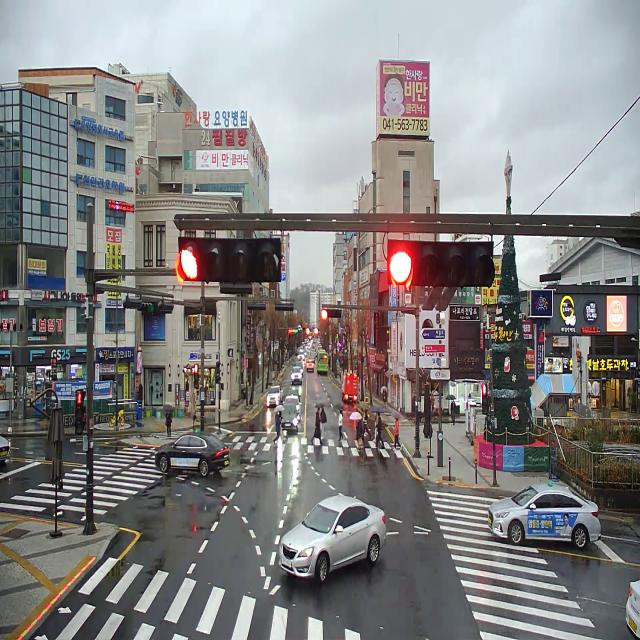Bus: (316, 348, 328, 372)
Car: (280, 494, 385, 581), (487, 488, 601, 548), (155, 435, 229, 476), (619, 577, 640, 640), (283, 394, 301, 421), (282, 403, 298, 430), (267, 384, 283, 404), (0, 435, 11, 462), (291, 366, 302, 384), (296, 362, 303, 376), (306, 360, 314, 371), (299, 350, 304, 360), (304, 352, 307, 357)
Truck: (341, 373, 358, 402)
